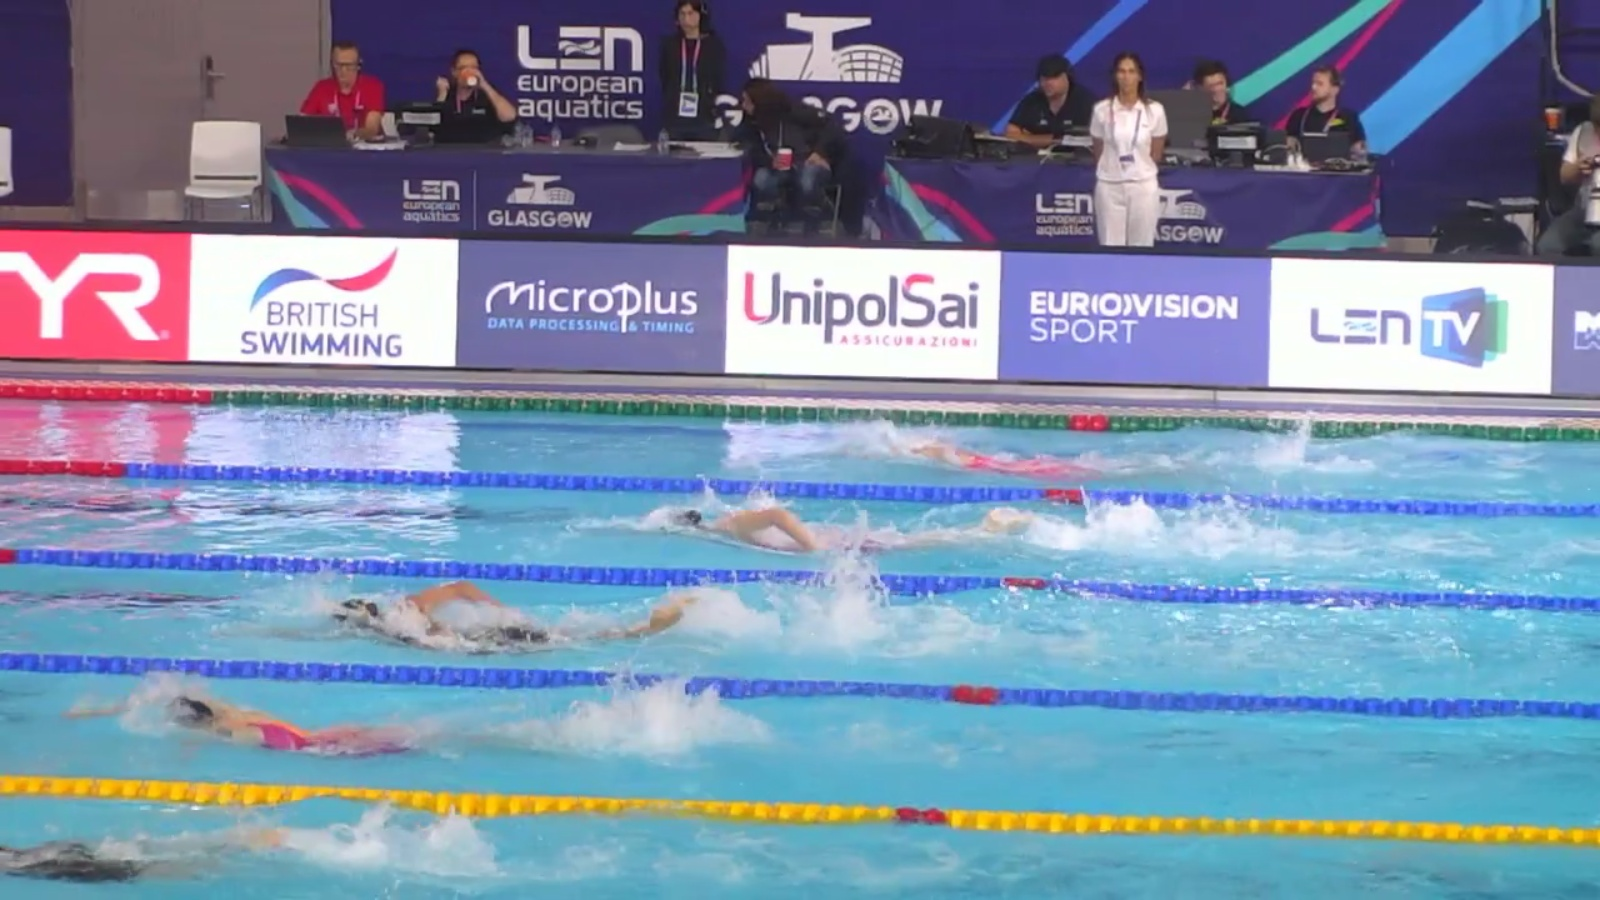swimmerw: (69, 691, 537, 765), (322, 584, 710, 656), (654, 497, 1047, 548), (879, 427, 1233, 484), (1, 827, 287, 888)
